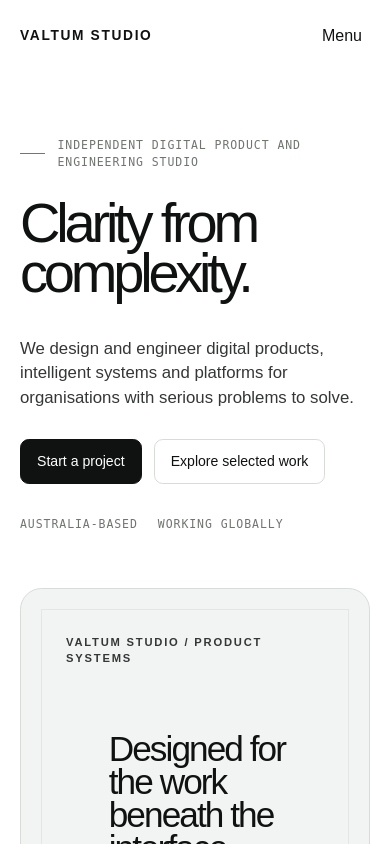
Test: PublicHomePage UI › exposes accessible mobile navigation state
Click the button with aria-label "Open navigation".
click(342, 36)  # box [314, 14, 370, 58]
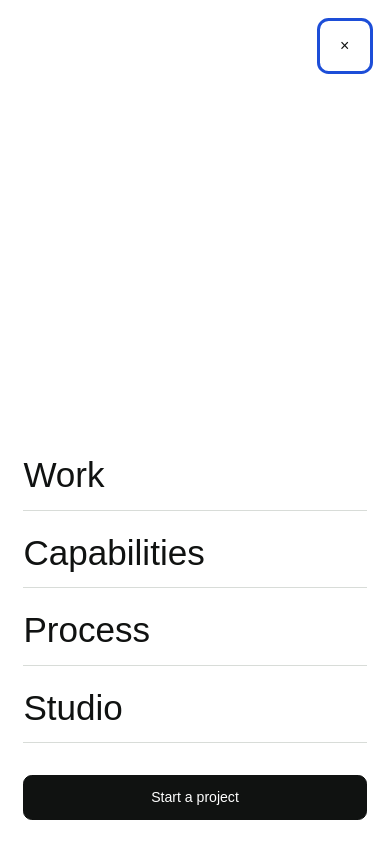
Check: the button named "Open navigation" is expanded, box [314, 14, 370, 58]
Check: the dialog named "Mobile navigation" is shown
Press Escape
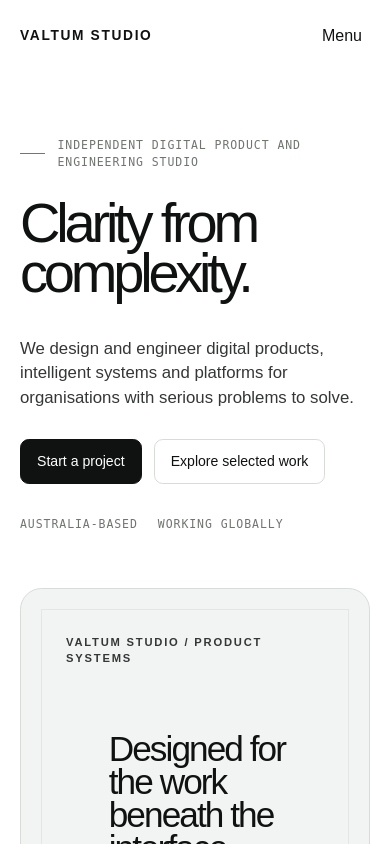
Check: the button with aria-label "Open navigation" is collapsed, box [314, 14, 370, 58]
